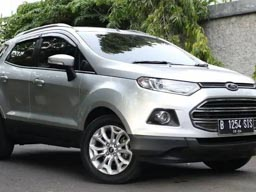plat: (219, 117, 253, 128)
